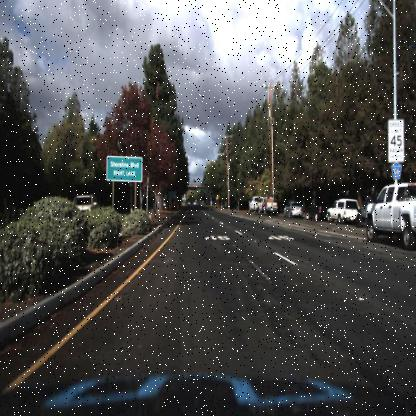car: (366, 182, 416, 253), (326, 196, 359, 223), (72, 190, 98, 224), (326, 198, 360, 222), (303, 201, 326, 222), (258, 195, 277, 216), (246, 197, 264, 216), (288, 202, 303, 222), (285, 201, 301, 217)
